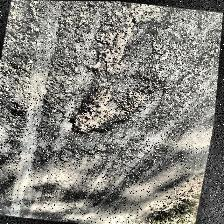pothole: (63, 72, 156, 146)
